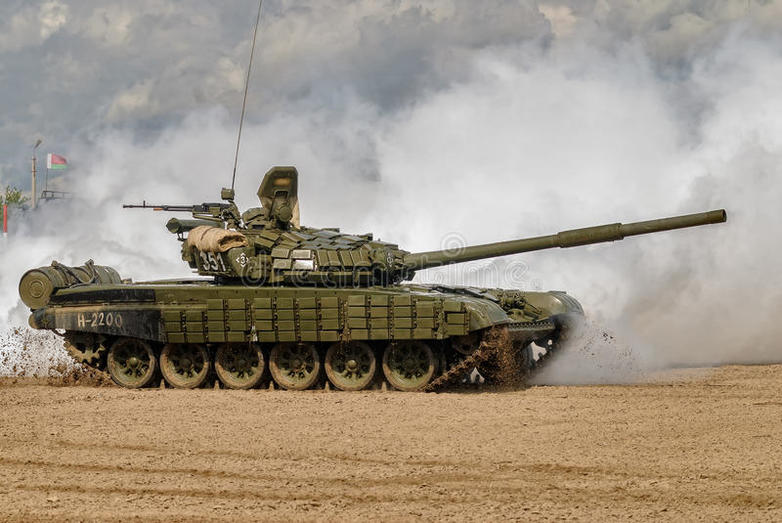t72: (30, 196, 738, 392)
